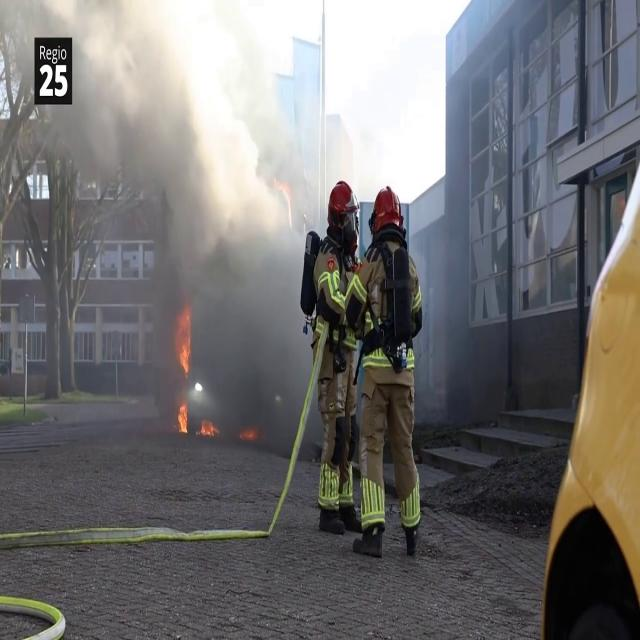fire: (173, 300, 194, 434)
smoke: (91, 0, 315, 429)
